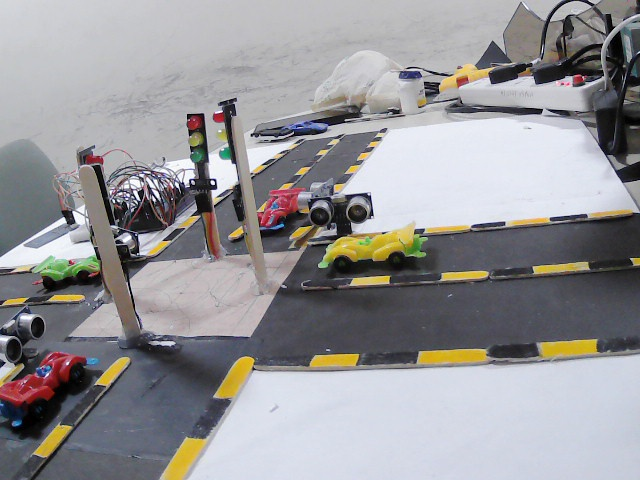black_strip: (188, 399, 235, 438), (67, 385, 106, 424), (481, 337, 541, 362), (360, 345, 419, 364), (490, 262, 533, 285), (262, 348, 314, 367), (593, 335, 640, 355), (572, 254, 615, 274), (298, 277, 348, 293), (386, 268, 438, 283), (16, 452, 42, 476), (470, 215, 504, 229), (253, 197, 276, 217), (554, 212, 594, 223), (303, 205, 324, 224), (276, 175, 297, 194), (340, 161, 362, 177), (321, 190, 340, 208), (370, 132, 389, 148), (303, 151, 318, 169), (0, 259, 14, 273), (25, 295, 45, 304), (266, 156, 278, 167), (338, 127, 349, 138), (321, 140, 332, 151), (295, 134, 305, 144), (231, 181, 240, 192), (282, 149, 289, 156)
car: (0, 350, 100, 426), (317, 223, 432, 275), (251, 185, 321, 236), (29, 254, 103, 286)
mixed_lane: (13, 356, 130, 479), (257, 337, 640, 369), (162, 354, 255, 477), (311, 255, 640, 288), (418, 204, 632, 235), (333, 128, 389, 193), (278, 134, 344, 188), (147, 206, 202, 256), (250, 136, 306, 177), (311, 228, 401, 245), (1, 291, 85, 306), (292, 211, 312, 242), (212, 187, 235, 204), (0, 266, 36, 275), (232, 221, 244, 238), (255, 198, 270, 210)
traffic_light: (74, 141, 119, 219), (211, 97, 246, 167), (182, 111, 207, 162)
uno_breadboard: (111, 170, 191, 225), (0, 310, 55, 357), (24, 219, 78, 252), (106, 221, 140, 252)
yellow_strip: (214, 359, 251, 396), (164, 439, 202, 474), (36, 422, 69, 457), (420, 347, 486, 364), (538, 339, 596, 358), (98, 354, 130, 384), (311, 347, 359, 366), (532, 257, 575, 276), (503, 213, 553, 229), (443, 268, 489, 283), (584, 206, 629, 221), (425, 219, 470, 233), (351, 273, 389, 288), (150, 240, 171, 255), (49, 293, 83, 302), (289, 226, 309, 240), (0, 294, 25, 305), (288, 169, 309, 182), (229, 219, 243, 237), (620, 256, 640, 266), (330, 180, 344, 194), (345, 164, 359, 173), (270, 191, 281, 202), (13, 267, 33, 273), (285, 144, 299, 152), (382, 128, 397, 135), (328, 137, 338, 145), (359, 151, 367, 159), (316, 150, 325, 157), (284, 144, 293, 151), (367, 142, 377, 147), (274, 151, 280, 157)
